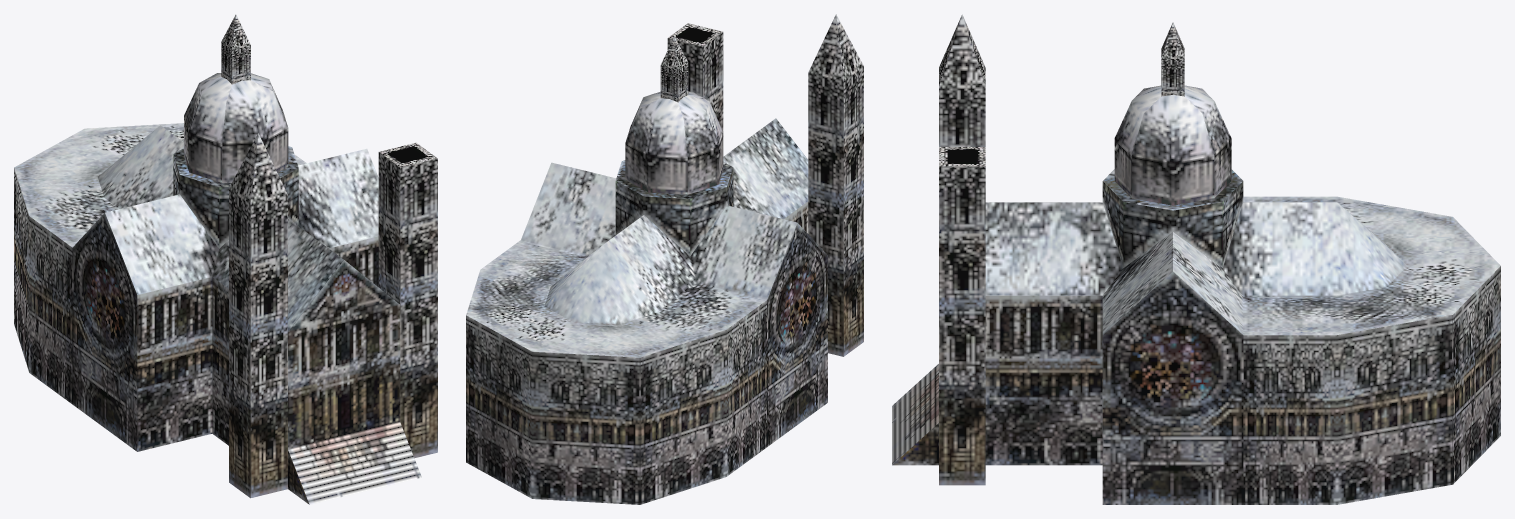
The model's file is Civilian - Civilian Building - European Museum - Damaged and Snow and Night - CBCthdrl_DSN.glb.
3 renders of one model, left to right at view 1: azimuth 30°, elevation 25°; view 2: azimuth 150°, elevation 25°; view 3: azimuth 270°, elevation 25°, orthographic. The views are drawn at different scales.
Parts seen in each view (by area): view 1: CBCTHDRL_DSN; view 2: CBCTHDRL_DSN; view 3: CBCTHDRL_DSN.
Boxes of the visible parts, x1,y1,x2,y2 form: CBCTHDRL_DSN: (14, 14, 437, 504); CBCTHDRL_DSN: (466, 14, 863, 504); CBCTHDRL_DSN: (892, 14, 1500, 504).
Bounding box in the file's own units: 105 × 146 × 195.
Materials: 1 (1 with a texture image).
